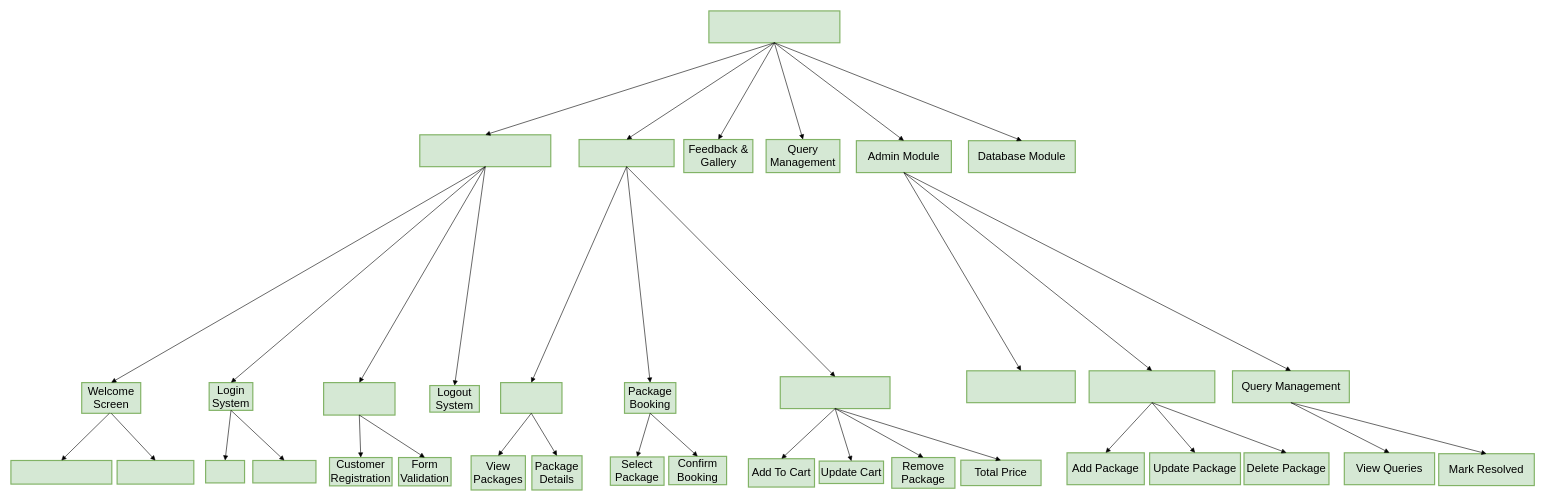
Some shapes in this 1545 by 500 pixel diagram are drawn without their labels. The shapes that lost their labels are listed below. From the top down, each one's box as (x1, y1, x2, y2) in pixels, then its label:
(708, 10, 840, 43): Tour Guide Application
(419, 134, 551, 167): Authentication Module
(578, 139, 674, 167): Customer Module
(323, 382, 395, 415): Registration System
(500, 382, 562, 414): Package Browsing
(779, 376, 890, 409): Cart Management
(966, 370, 1076, 403): Admin Dashboard
(1088, 370, 1215, 403): Package Management
(10, 460, 112, 484): Customer Button
(116, 460, 194, 484): Admin Button
(205, 460, 245, 483): Login
(252, 460, 316, 483): Validation
